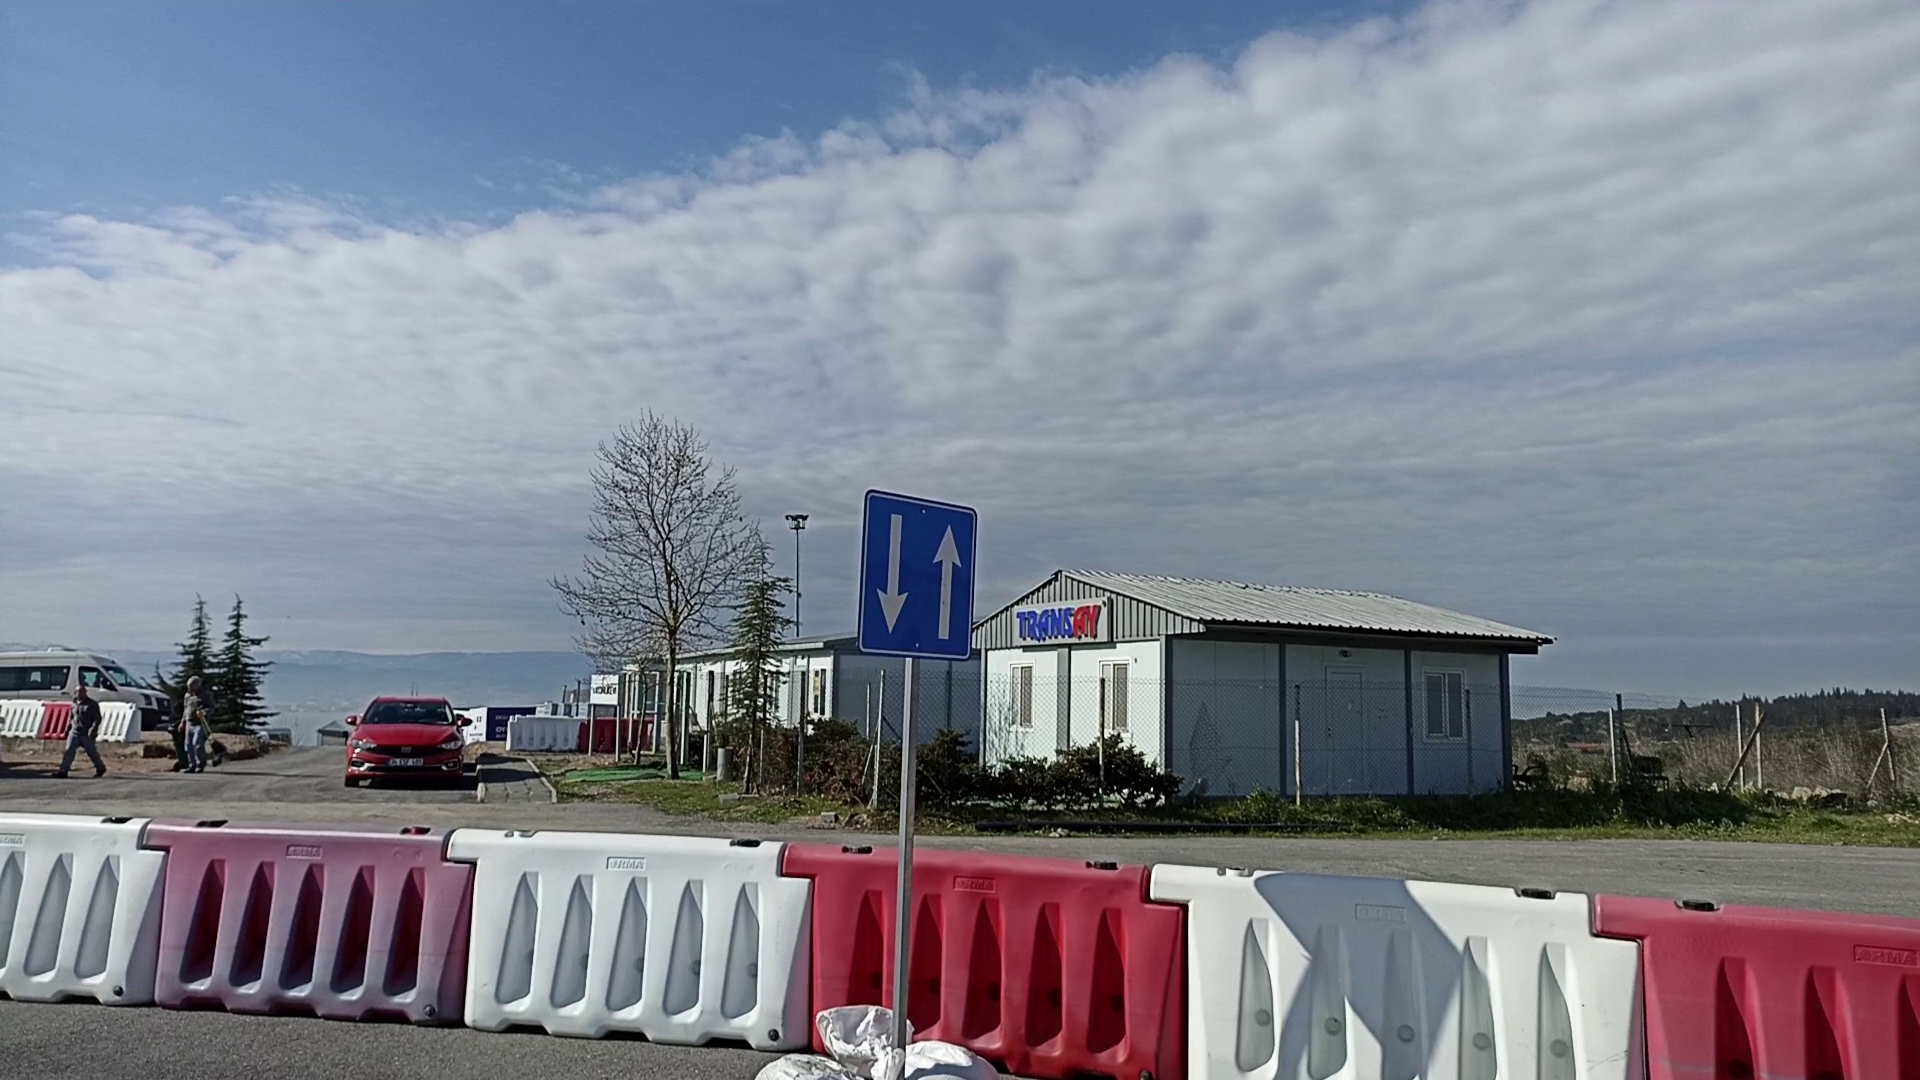oneway: (852, 487, 982, 666)
